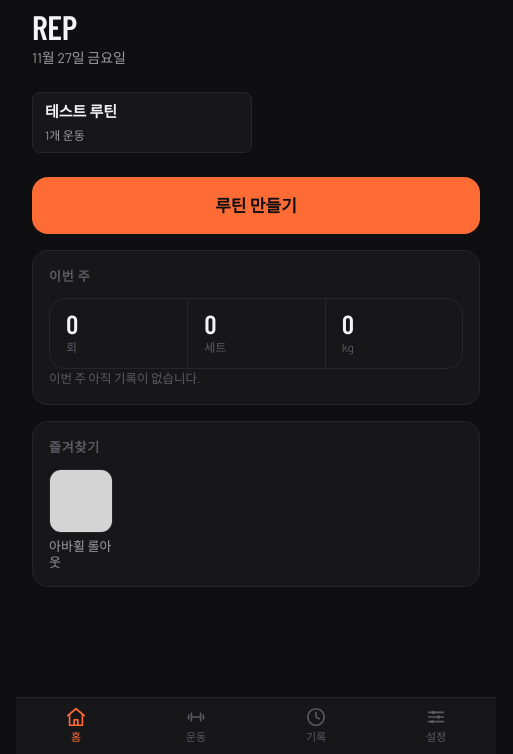
Test case: navigation (jsdom) — 뒤로가기 & 화면 이동 › 운동 완료(finish)는 히스토리에 /log 유령 항목을 남기지 않는다 (replace)
Later steps or results of the test are not shown.
Click the link "테스트 루틴 1개 운동" at (142, 123), box left=32, top=92, right=252, bottom=153
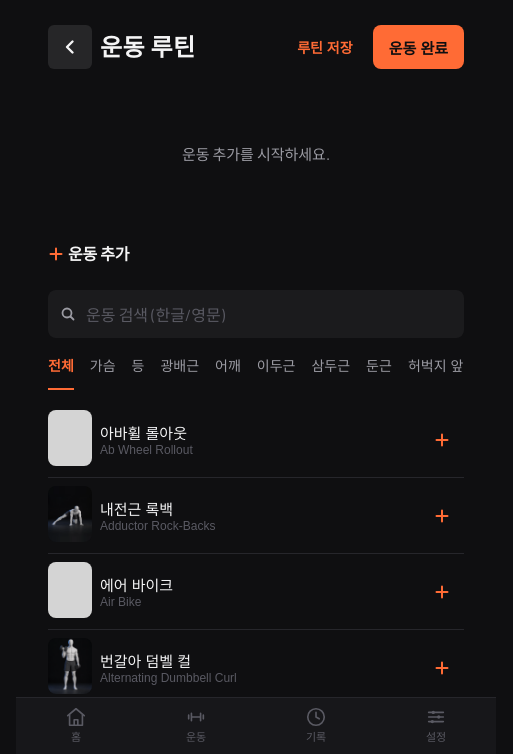
Expected: the button "운동 완료" is shown, left=373, top=26, right=464, bottom=70
